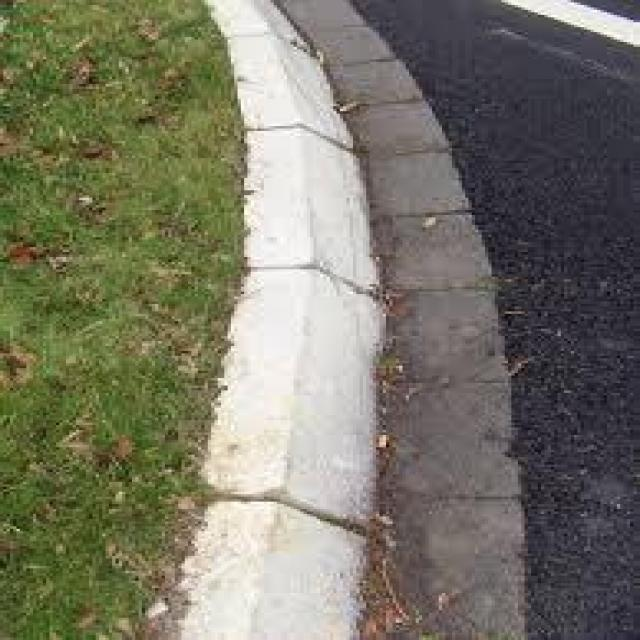curb: (180, 123, 410, 634), (215, 1, 338, 124)
